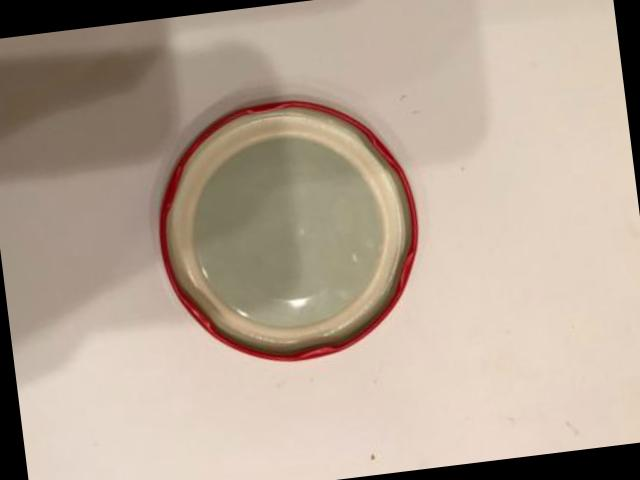metal: (161, 104, 418, 362)
